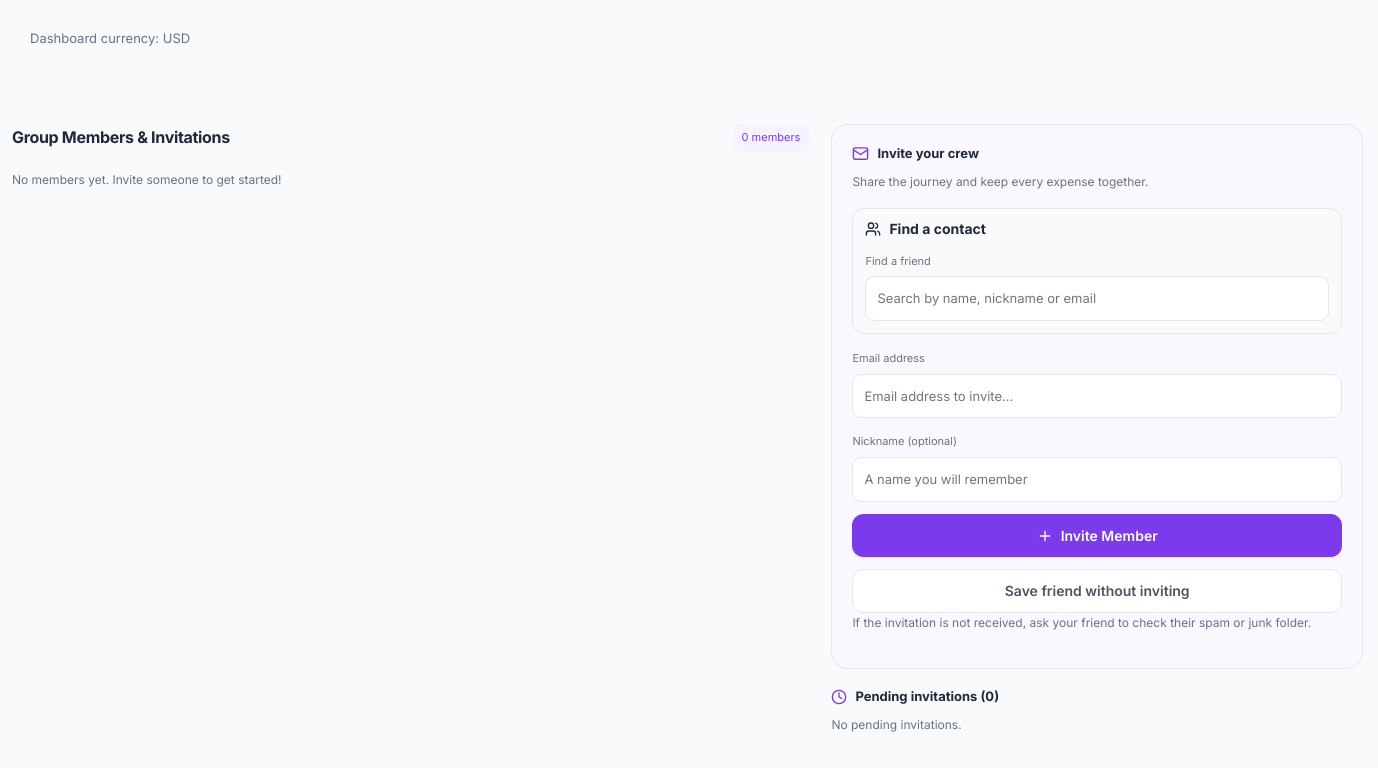
Test: searches saved contacts by nickname and can load another page
Type "Jane" into the search field labelled "Find a friend" at (1097, 299), box [865,276,1329,321]
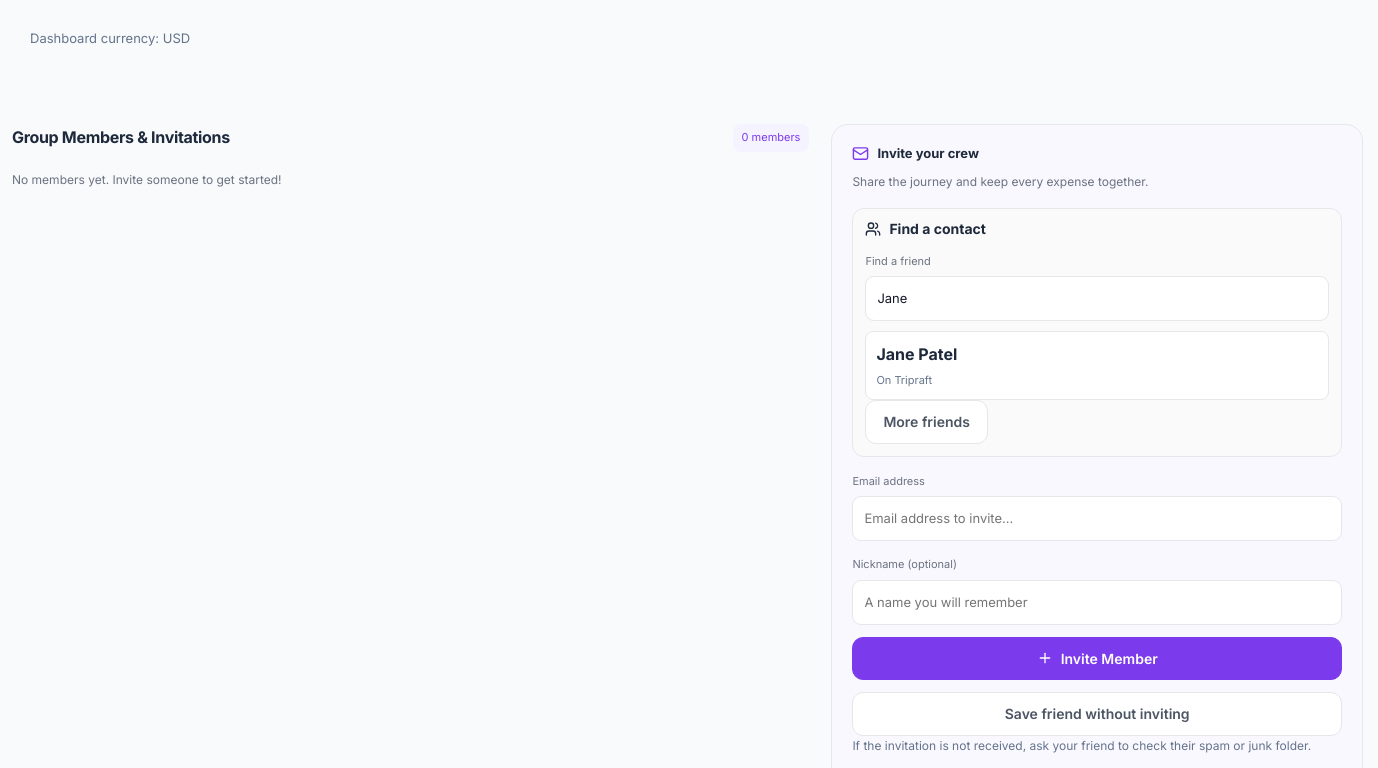
Check: the text "Jane Patel" is shown, box [876,342,957,368]
Click the button "More friends" at (927, 422), box [865,400,988,444]
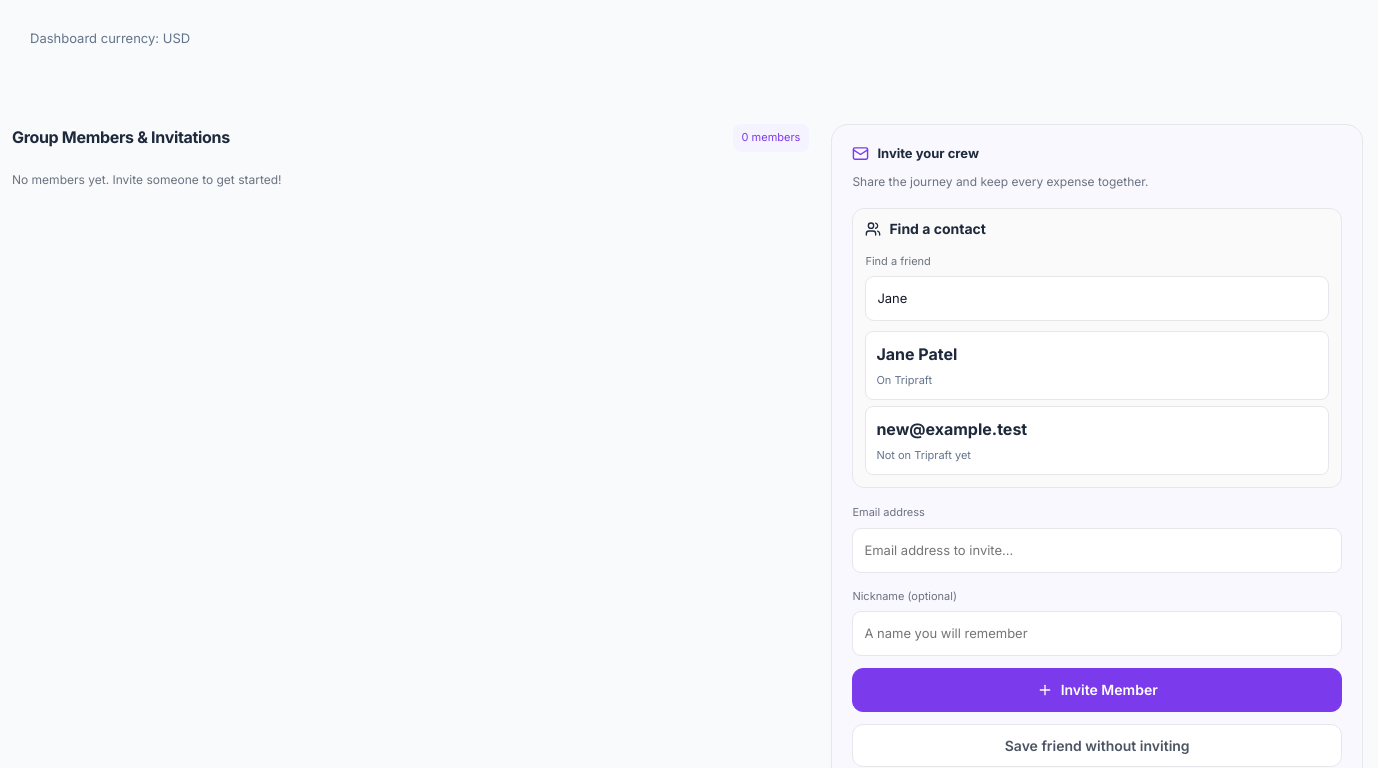
Check: the text "new@example.test" is shown, box [876,417,1027,443]
Replace the text in the search field labelled "Find a friend" with "JP" at (1097, 299), box [865,276,1329,321]
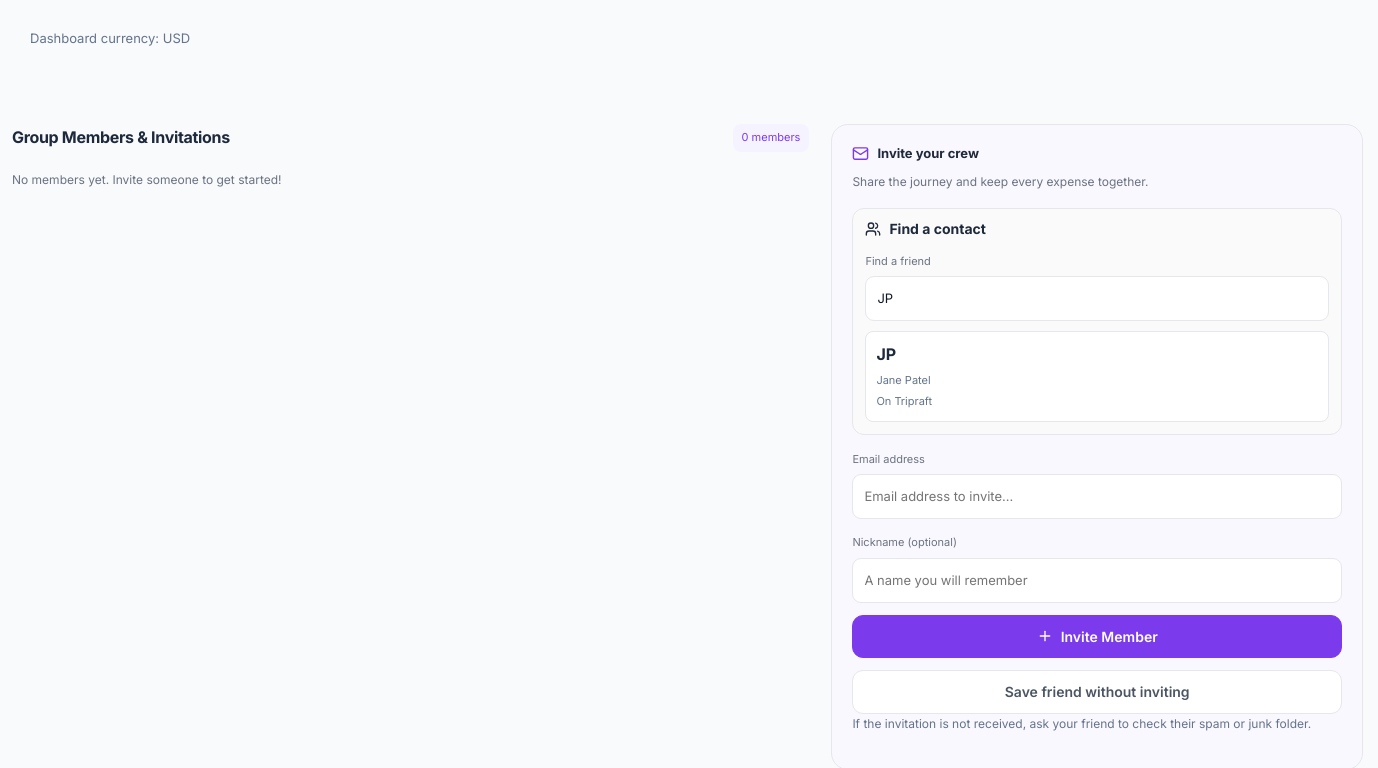
Check: the text "JP" is shown, box [876,342,896,368]
Clear the search field labelled "Find a friend" at (1097, 299), box [865,276,1329,321]
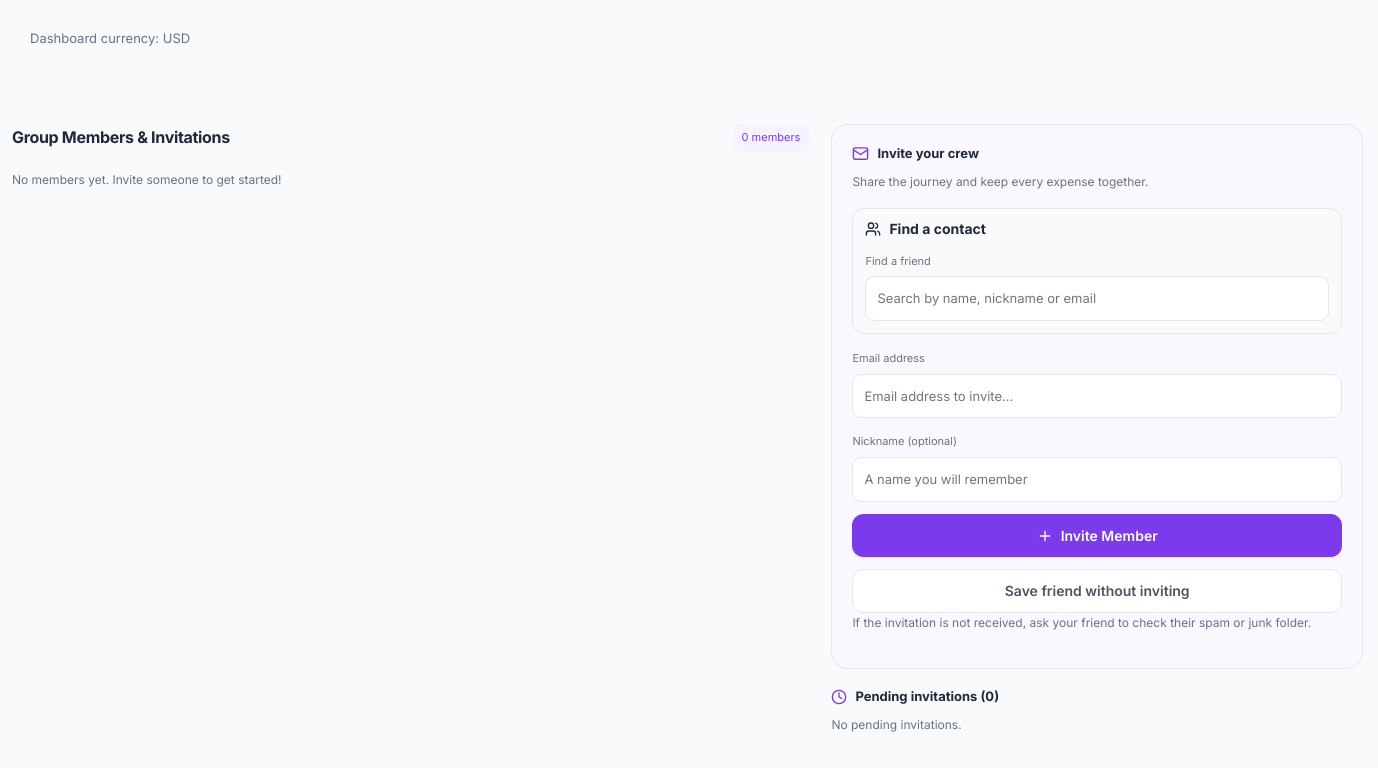
Check: the button "JP" is gone
